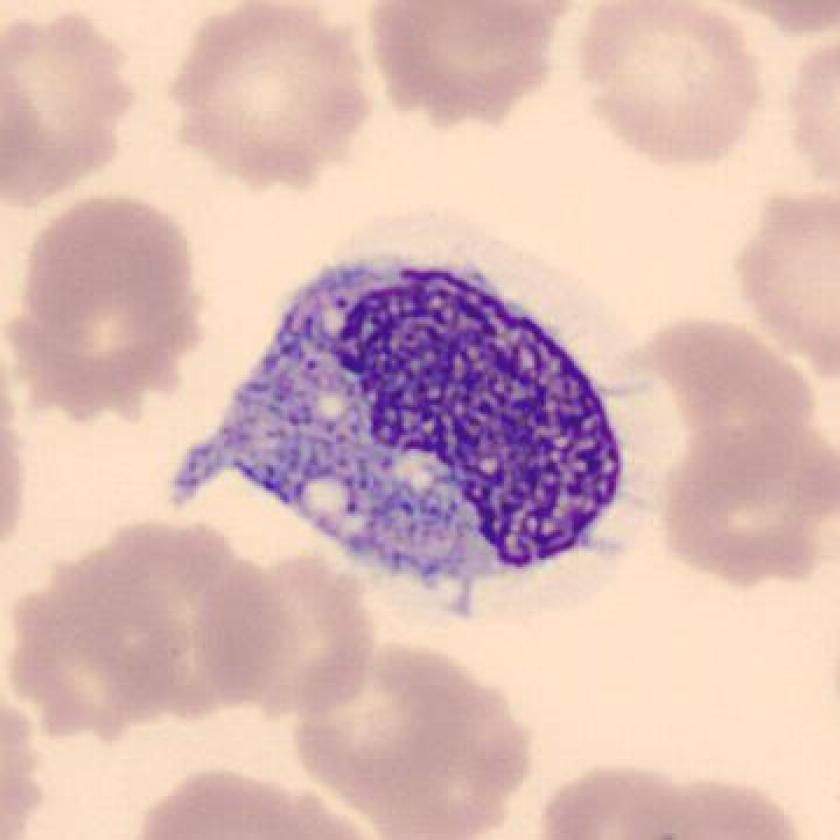monocyte: (150, 212, 657, 633)
